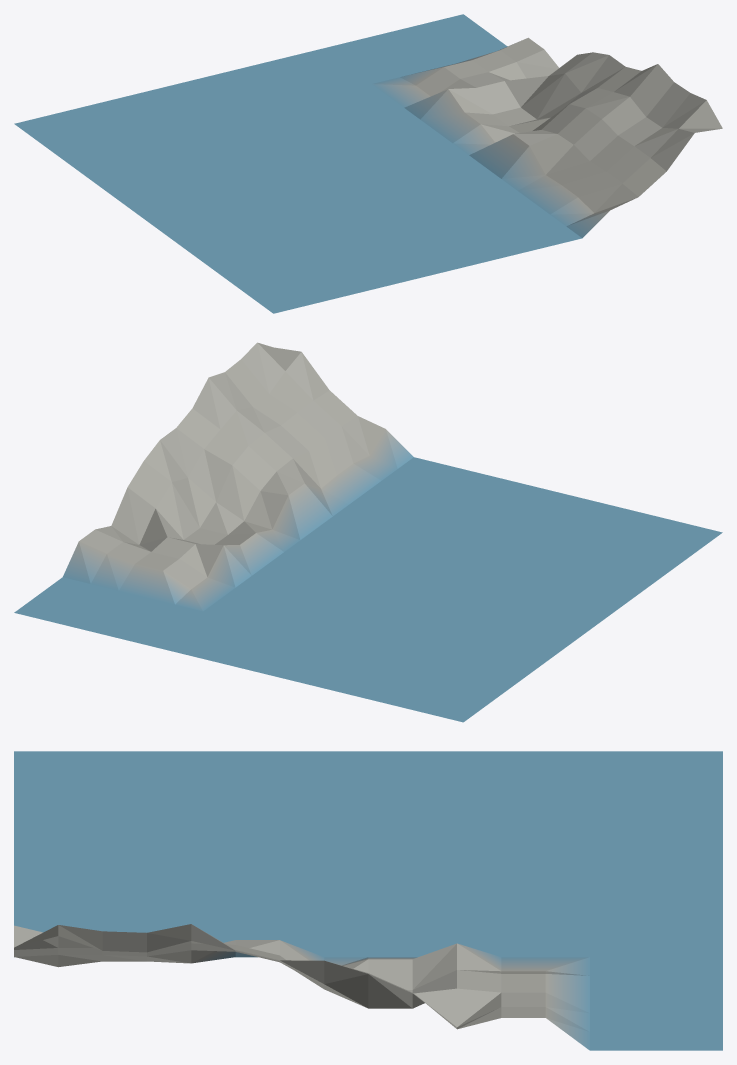
3 renders of one model, top to bottom at view 1: azimuth 30°, elevation 25°; view 2: azimuth 150°, elevation 25°; view 3: azimuth 270°, elevation 25°, orthographic. The views are drawn at different scales.
Size of the model in its own units: 32 by 6.32 by 32.
